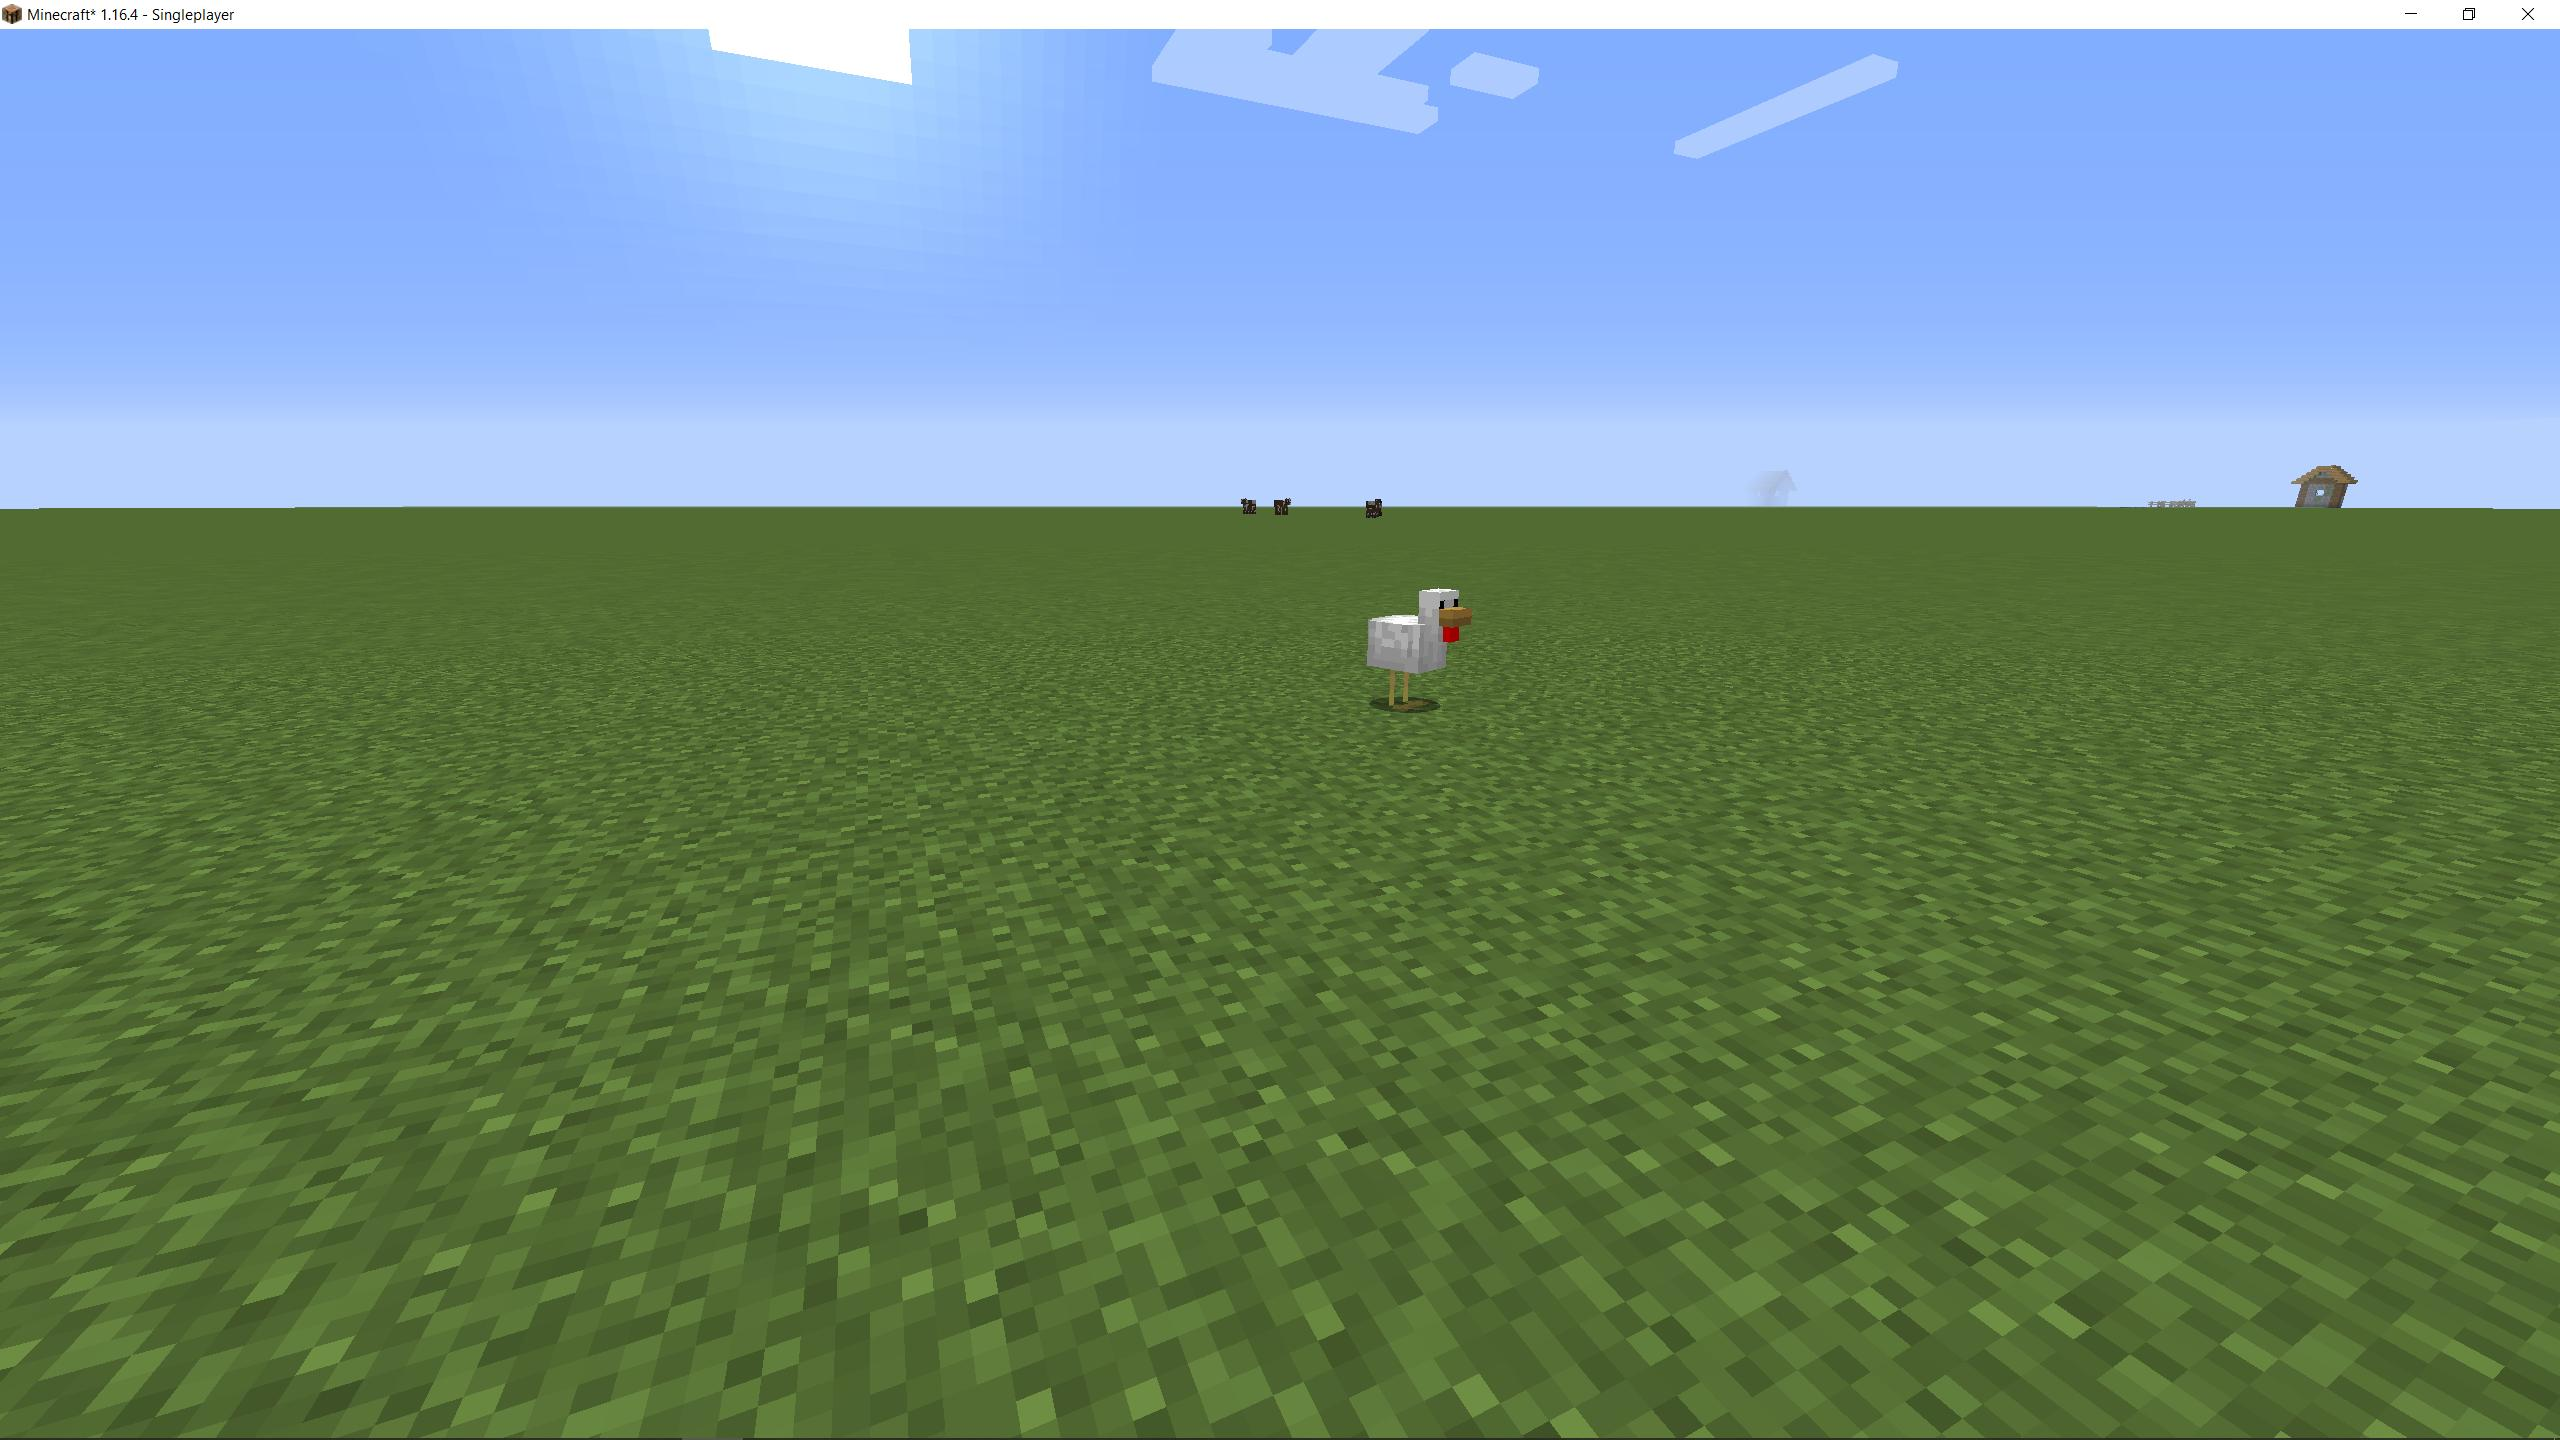chicken: (1366, 587, 1475, 712)
